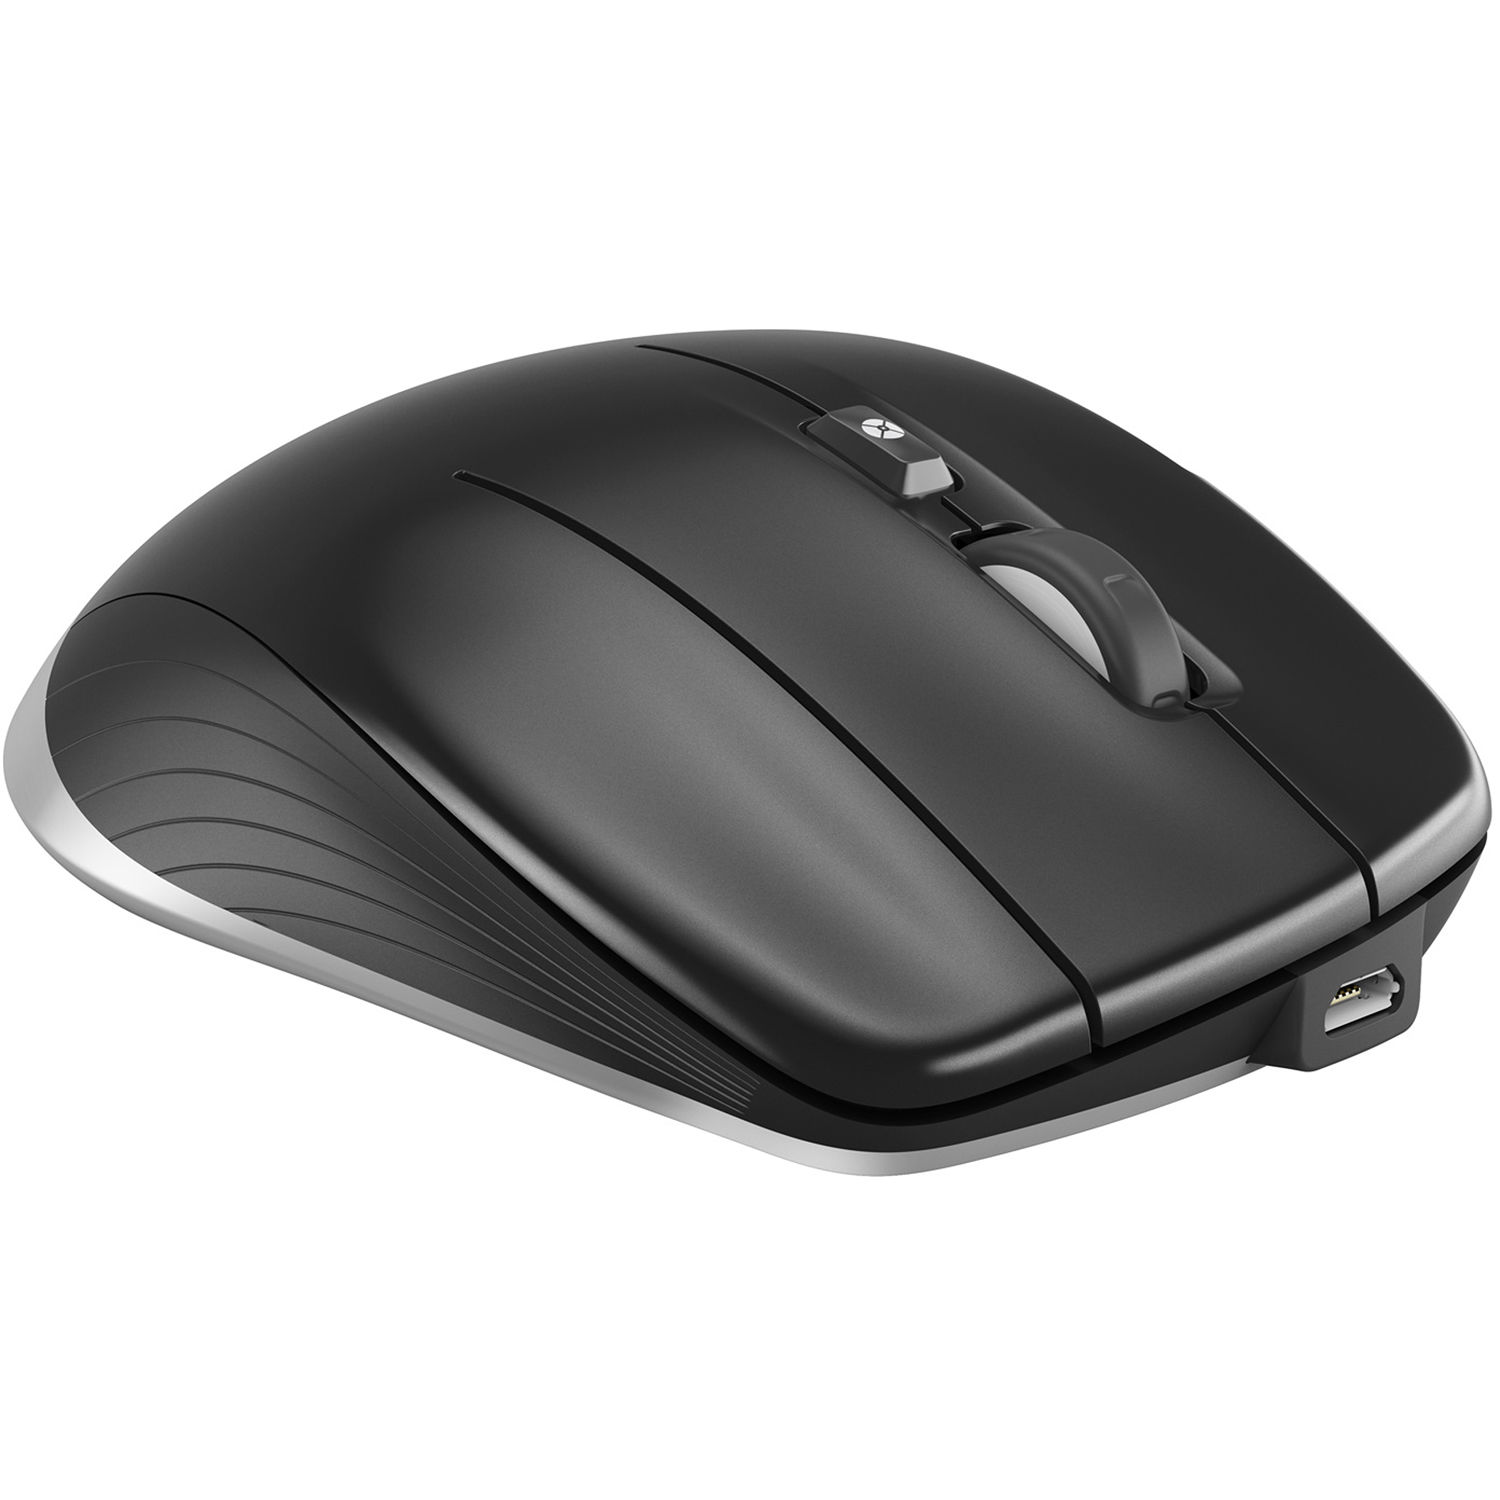Mouse: (10, 312, 1500, 1196)
